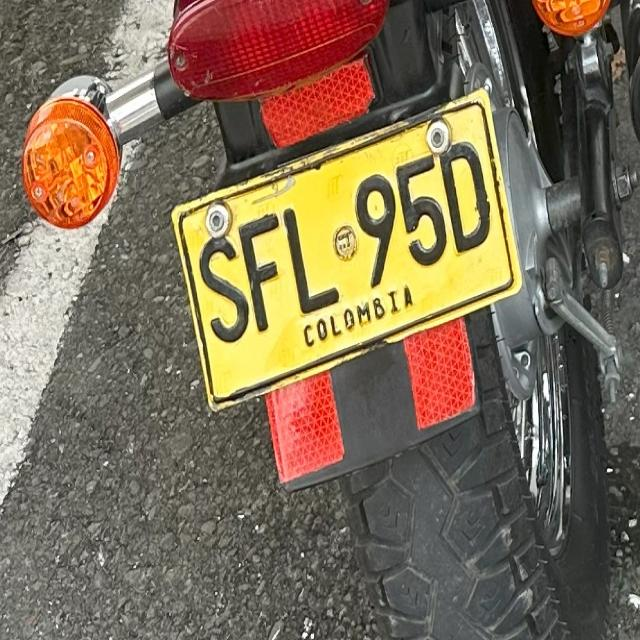number plate: (172, 89, 519, 405), (21, 97, 118, 226)
